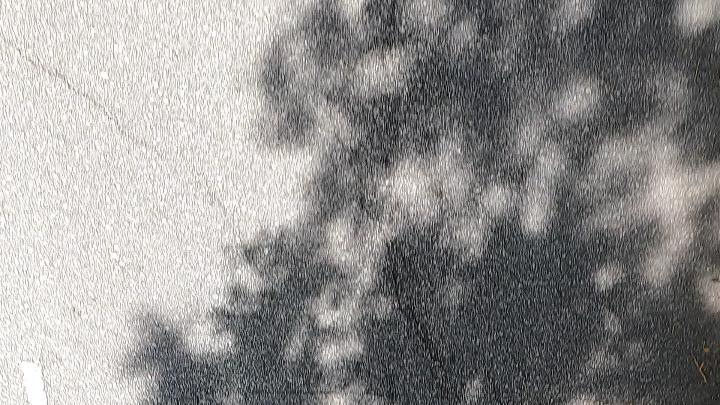Crack: (0, 23, 243, 253), (0, 33, 224, 214), (340, 146, 464, 405), (348, 149, 465, 403), (220, 221, 243, 252)
